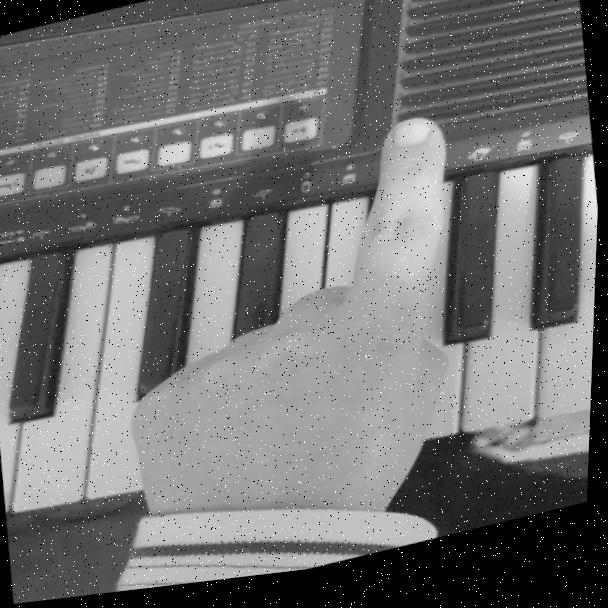one: (80, 99, 523, 575)
